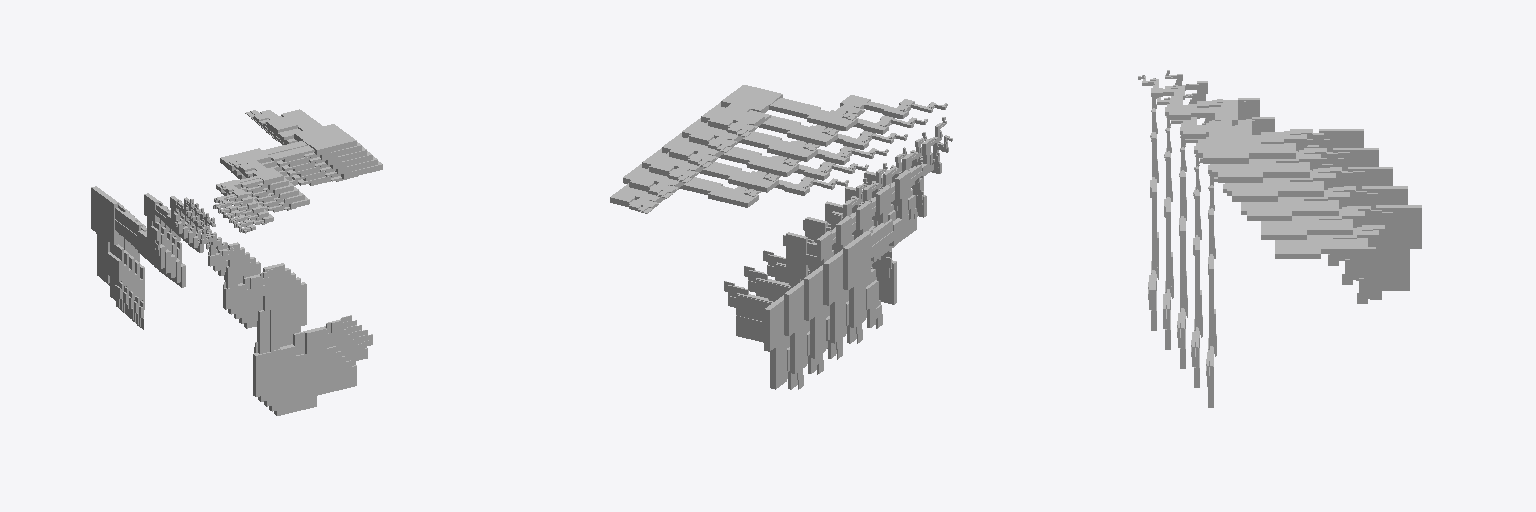
The model's file is Block_02.obj.
3 renders of one model, left to right at view 1: azimuth 30°, elevation 25°; view 2: azimuth 150°, elevation 25°; view 3: azimuth 270°, elevation 25°, orthographic.
Visible parts, largest first — view 1: Cube.002; view 2: Cube.002; view 3: Cube.002.
Part boxes in pixels (bbox=[...]): Cube.002: bbox=[91, 109, 382, 415]; Cube.002: bbox=[610, 85, 952, 389]; Cube.002: bbox=[1138, 70, 1421, 407].
Size of the model in its own units: 200 by 200 by 197.